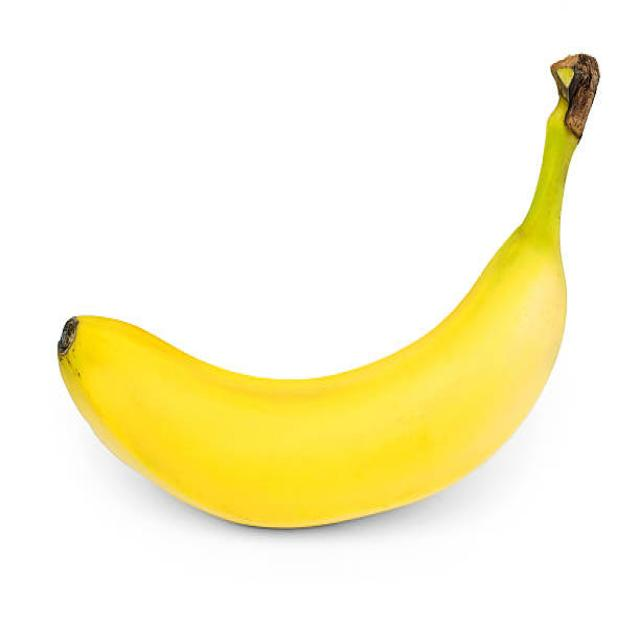Ripe: (52, 106, 575, 533)
